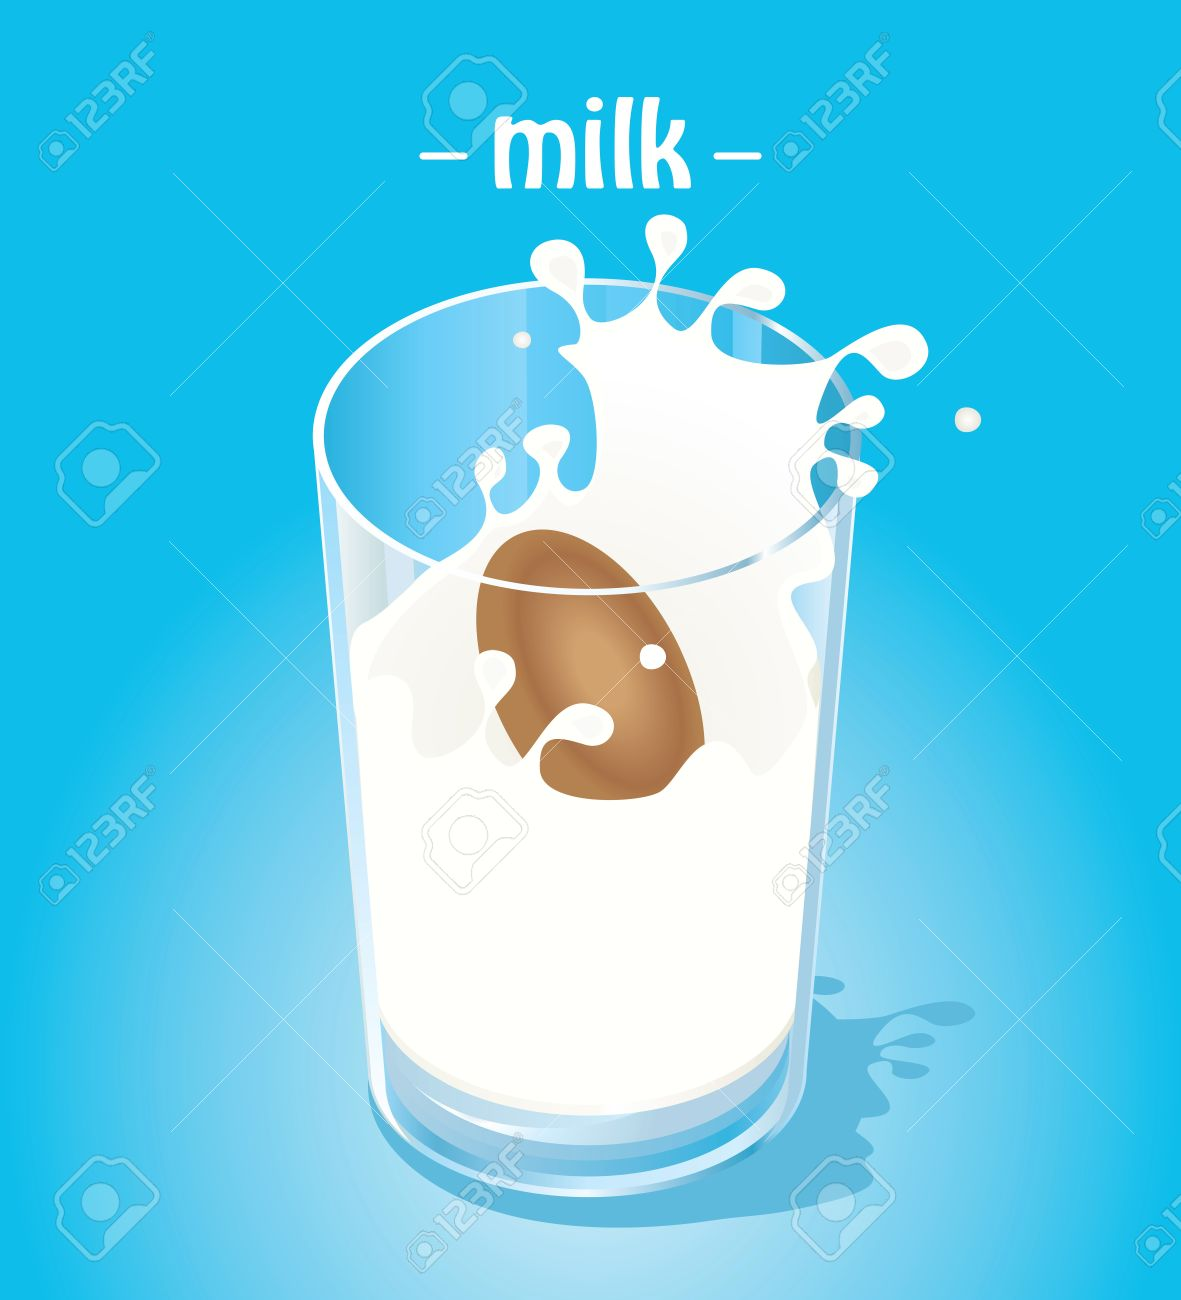glass of milk: (277, 260, 873, 1231)
